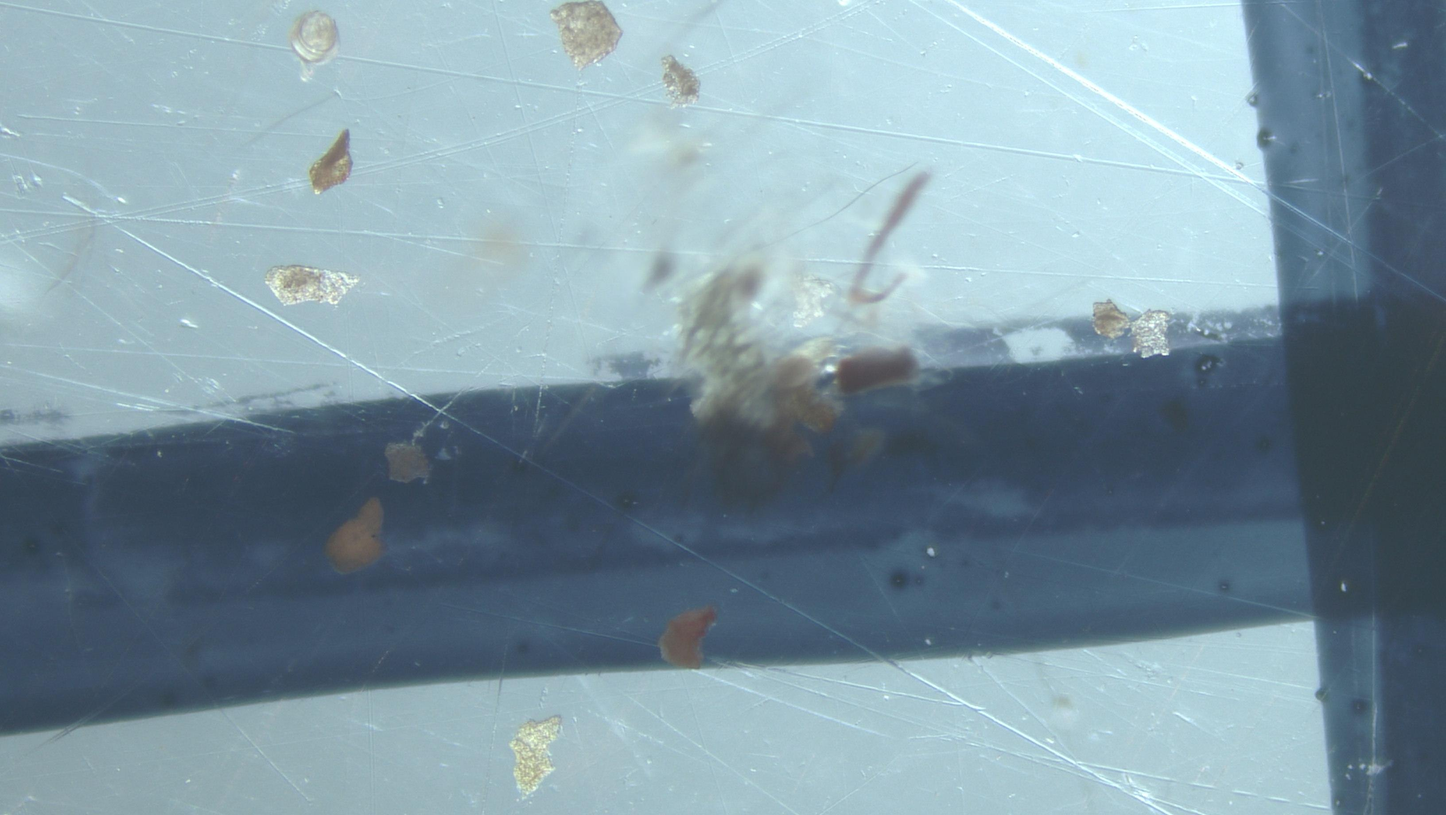live: (290, 11, 338, 64)
